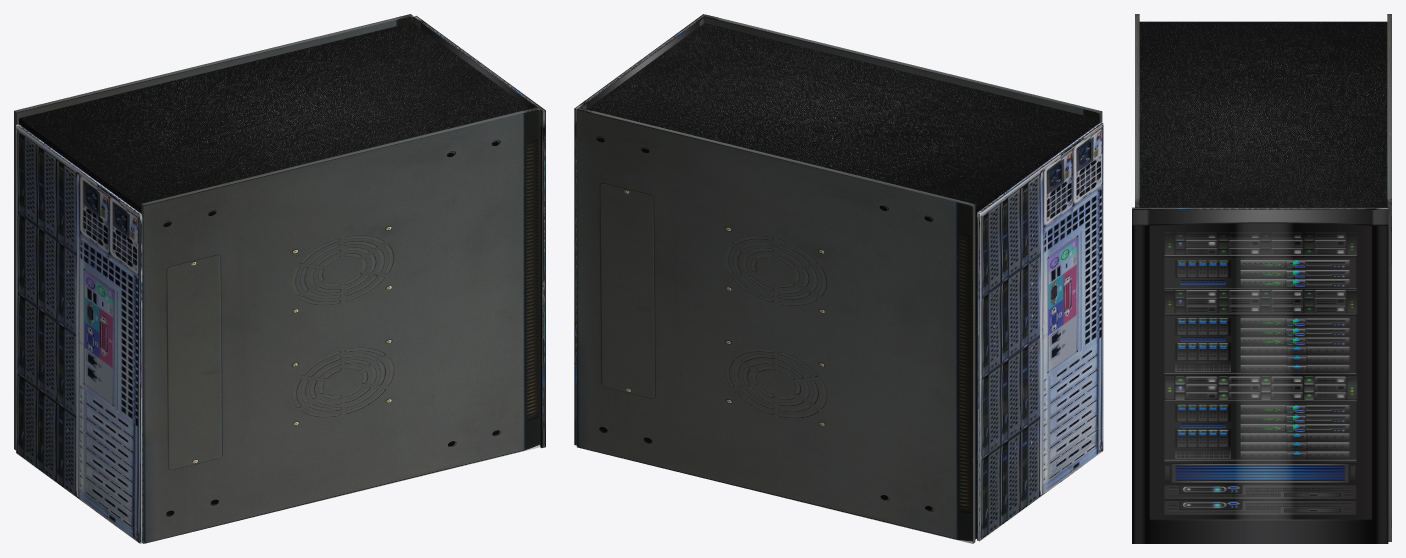
The model's file is Servidor.obj.
3 views of the same model, side by side, from view 1: azimuth 30°, elevation 25°; view 2: azimuth 150°, elevation 25°; view 3: azimuth 270°, elevation 25° (orthographic).
Parts seen in each view (by area): view 1: Box002, Box001, Box004, Box005, Box003; view 2: Box005, Box001, Box004, Box002, Box003; view 3: Box003, Box001, Box005, Box002.
Part boxes in pixels (<box>): Box002: <box>141,107,540,543</box>; Box001: <box>19,22,529,213</box>; Box004: <box>16,124,142,543</box>; Box005: <box>14,14,412,450</box>; Box003: <box>413,16,545,447</box>; Box005: <box>576,107,975,543</box>; Box001: <box>587,23,1097,539</box>; Box004: <box>977,122,1103,541</box>; Box002: <box>703,14,1102,124</box>; Box003: <box>574,14,705,445</box>; Box003: <box>1132,207,1388,543</box>; Box001: <box>1139,21,1387,207</box>; Box005: <box>1387,14,1391,541</box>; Box002: <box>1135,14,1139,207</box>.
Size of the model in its own units: 10.42 by 8.36 by 5.86.
Materials: 4 (4 with a texture image).
